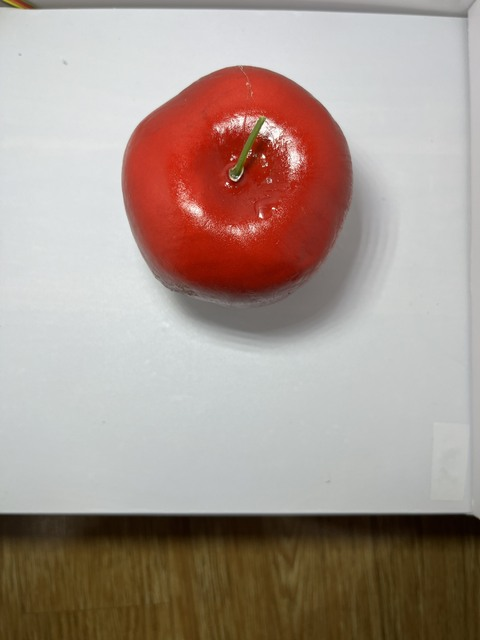Tao: (115, 58, 352, 312)
